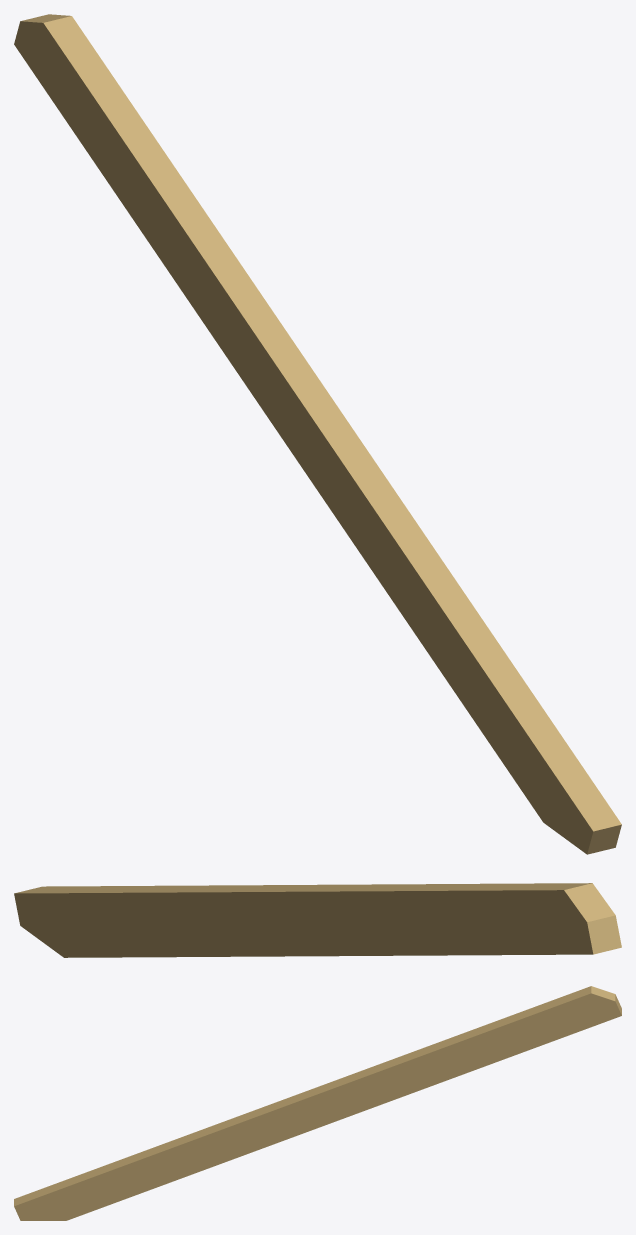
3 views of the same model, one above another, from view 1: azimuth 30°, elevation 25°; view 2: azimuth 210°, elevation 25°; view 3: azimuth 270°, elevation 25° (orthographic). The views are drawn at different scales.
Visible parts, largest first — view 1: L1-3-S8-324-WEB03; view 2: L1-3-S8-324-WEB03; view 3: L1-3-S8-324-WEB03.
Boxes of the visible parts, x1,y1,x2,y2 form: L1-3-S8-324-WEB03: (14, 14, 621, 854); L1-3-S8-324-WEB03: (14, 883, 621, 957); L1-3-S8-324-WEB03: (14, 986, 621, 1220).
Bounding box in the file's own units: 0.045 × 0.6518 × 1.58.
